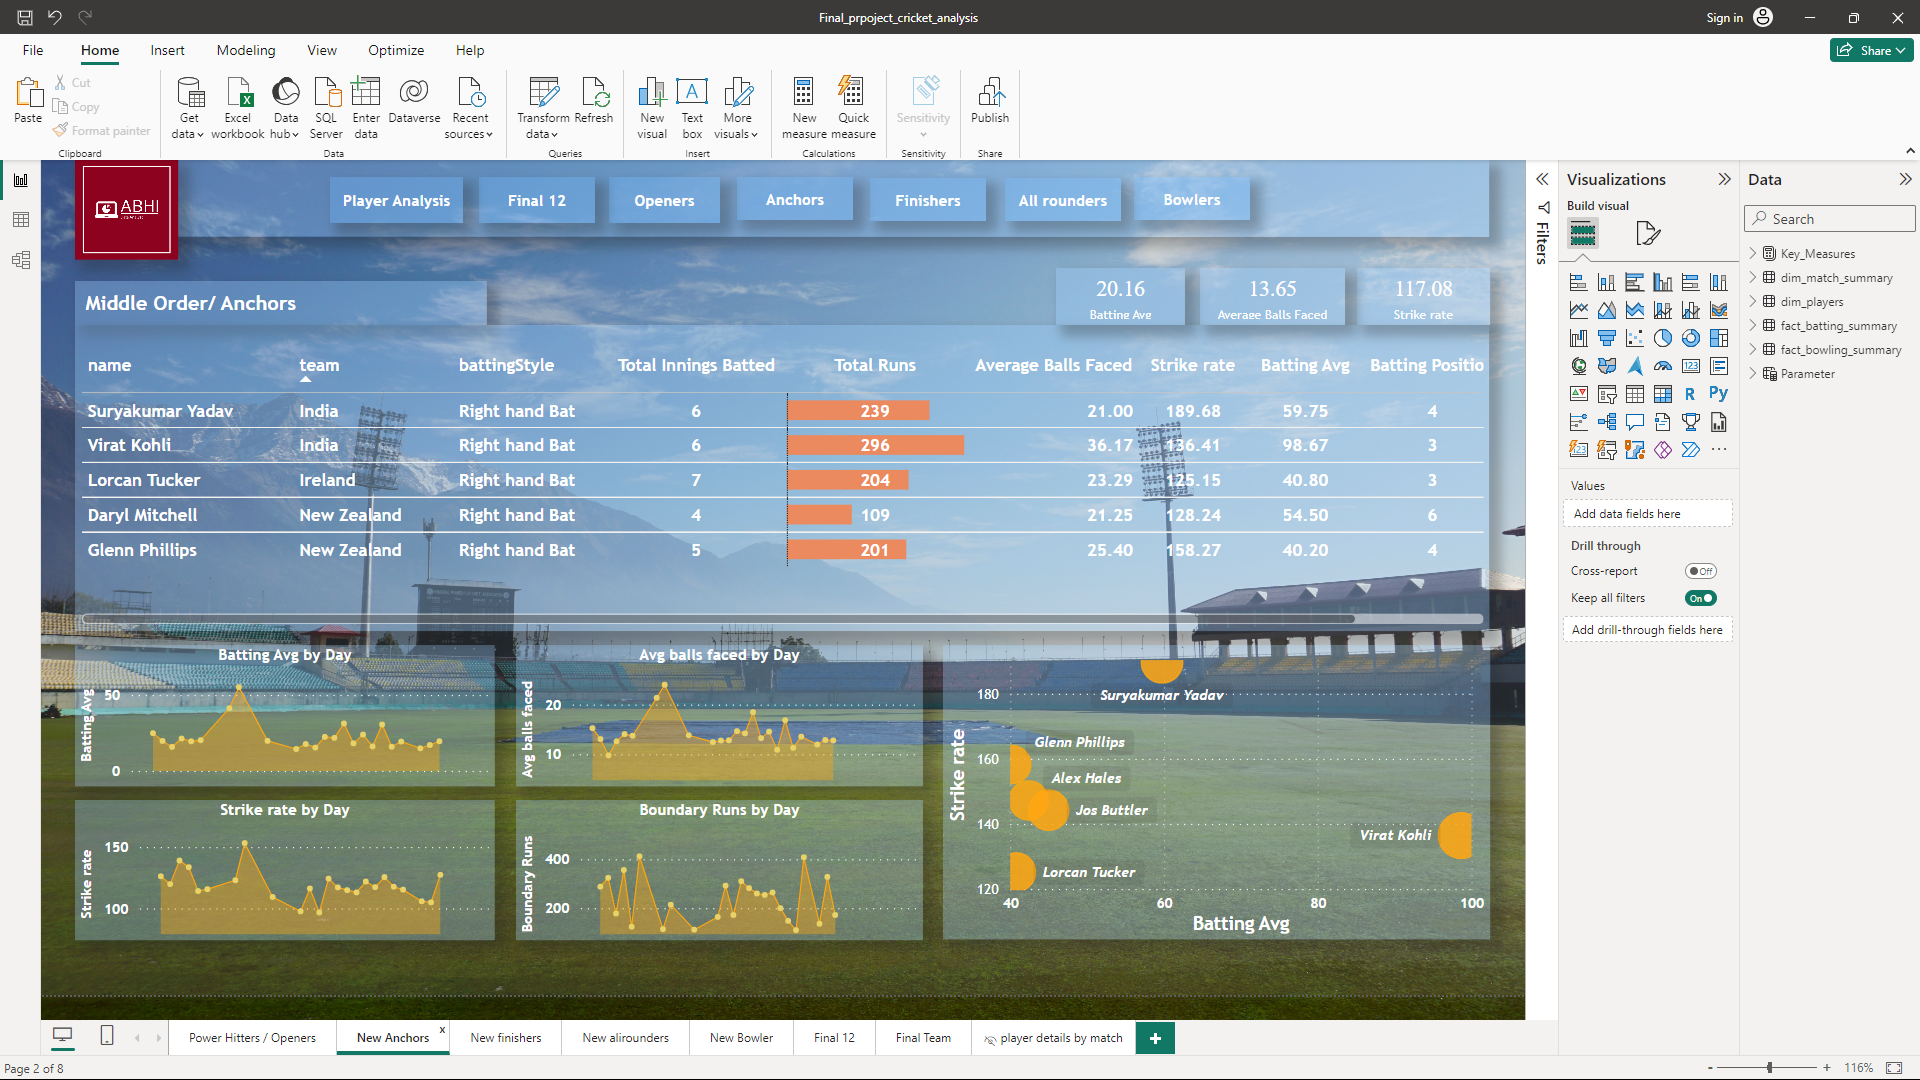

What the dashboard file says about the page in this screenshot:
{"tool":"powerbi","page":{"name":"New Anchors","canvas":[1280,720],"ordinal":4},"visuals":[{"type":"shape","box":[29.3,0,1220.5,66.4],"z":0},{"type":"shape","box":[29.3,104.4,355.4,38],"z":1000},{"type":"areaChart","fields":{"Y":["Key_Measures.Batting Avg"],"Category":["dim_match_summary.matchDate.Variation.Date Hierarchy.Day"]},"box":[29.3,418.3,362.3,121.6],"z":2000},{"type":"areaChart","fields":{"Y":["Key_Measures.Average Balls Faced"],"Category":["dim_match_summary.matchDate.Variation.Date Hierarchy.Day"]},"box":[409.7,418.3,351.1,121.6],"z":3000},{"type":"areaChart","fields":{"Y":["Key_Measures.Strike rate"],"Category":["dim_match_summary.matchDate.Variation.Date Hierarchy.Day"]},"box":[29.3,552,362.3,120.8],"z":4000},{"type":"areaChart","fields":{"Y":["Sum(fact_batting_summary.boundary runs)"],"Category":["dim_match_summary.matchDate.Variation.Date Hierarchy.Day"]},"box":[409.7,552,351.1,120.8],"z":5000},{"type":"image","box":[29.3,0,88.8,86.3],"z":6000},{"type":"actionButton","box":[715,15.5,100.1,37.1],"z":7000},{"type":"actionButton","box":[831.5,15.5,100.1,37.1],"z":8000},{"type":"actionButton","box":[942.7,14.7,100.1,37.1],"z":9000},{"type":"actionButton","box":[600.3,14.7,100.1,37.1],"z":10000},{"type":"actionButton","box":[489.9,14.7,95.7,39.7],"z":11000},{"type":"actionButton","box":[377.8,14.7,100.1,39.7],"z":12000},{"type":"actionButton","box":[249.3,14.7,114.7,39.7],"z":13000},{"type":"tableEx","fields":{"Values":["dim_player.name","dim_player.team","dim_player.Batting Style","Key_Measures.Total Matches","Key_Measures.Total Runs","Key_Measures.Avergate Balls Faced","Key_Measures.Strike rate","Key_Measures.Bat Avg","Key_Measures.Batting Position","Key_Measures.Boundary %"]},"box":[29.3,142.3,1220.5,263.9],"z":14000},{"type":"card","fields":{"Values":["Key_Measures.Bat Avg"]},"box":[875.5,93.2,111.3,49.2],"z":15000},{"type":"card","fields":{"Values":["Key_Measures.Strike rate"]},"box":[1135.1,93.2,114.7,49.2],"z":16000},{"type":"card","fields":{"Values":["Key_Measures.Avergate Balls Faced"]},"box":[999.7,93.2,125.1,49.2],"z":17000},{"type":"scatterChart","fields":{"Y":["Key_Measures.Strike rate"],"Category":["dim_player.name"],"X":["Key_Measures.Bat Avg"],"Series":["dim_player.name"],"Size":["Key_Measures.Total Runs"]},"box":[778,418.3,471.8,254.4],"z":18000}]}

Visuals, with their boxes on the page's 1280x720 design canvas (x1, y1, x2, y2). These are canvas units, not pixel positions in the 1920x1080 screenshot, which may show the page scaled, cropped or inside an application window:
shape: BBox(29, 0, 1250, 66)
shape: BBox(29, 104, 385, 142)
areaChart - Key_Measures.Batting Avg x dim_match_summary.matchDate.Variation.Date Hierarchy.Day: BBox(29, 418, 392, 540)
areaChart - Key_Measures.Average Balls Faced x dim_match_summary.matchDate.Variation.Date Hierarchy.Day: BBox(410, 418, 761, 540)
areaChart - Key_Measures.Strike rate x dim_match_summary.matchDate.Variation.Date Hierarchy.Day: BBox(29, 552, 392, 673)
areaChart - Sum(fact_batting_summary.boundary runs) x dim_match_summary.matchDate.Variation.Date Hierarchy.Day: BBox(410, 552, 761, 673)
image: BBox(29, 0, 118, 86)
actionButton: BBox(715, 16, 815, 53)
actionButton: BBox(832, 16, 932, 53)
actionButton: BBox(943, 15, 1043, 52)
actionButton: BBox(600, 15, 700, 52)
actionButton: BBox(490, 15, 586, 54)
actionButton: BBox(378, 15, 478, 54)
actionButton: BBox(249, 15, 364, 54)
tableEx - dim_player.name x dim_player.team: BBox(29, 142, 1250, 406)
card - Key_Measures.Bat Avg: BBox(876, 93, 987, 142)
card - Key_Measures.Strike rate: BBox(1135, 93, 1250, 142)
card - Key_Measures.Avergate Balls Faced: BBox(1000, 93, 1125, 142)
scatterChart - Key_Measures.Strike rate x dim_player.name: BBox(778, 418, 1250, 673)
